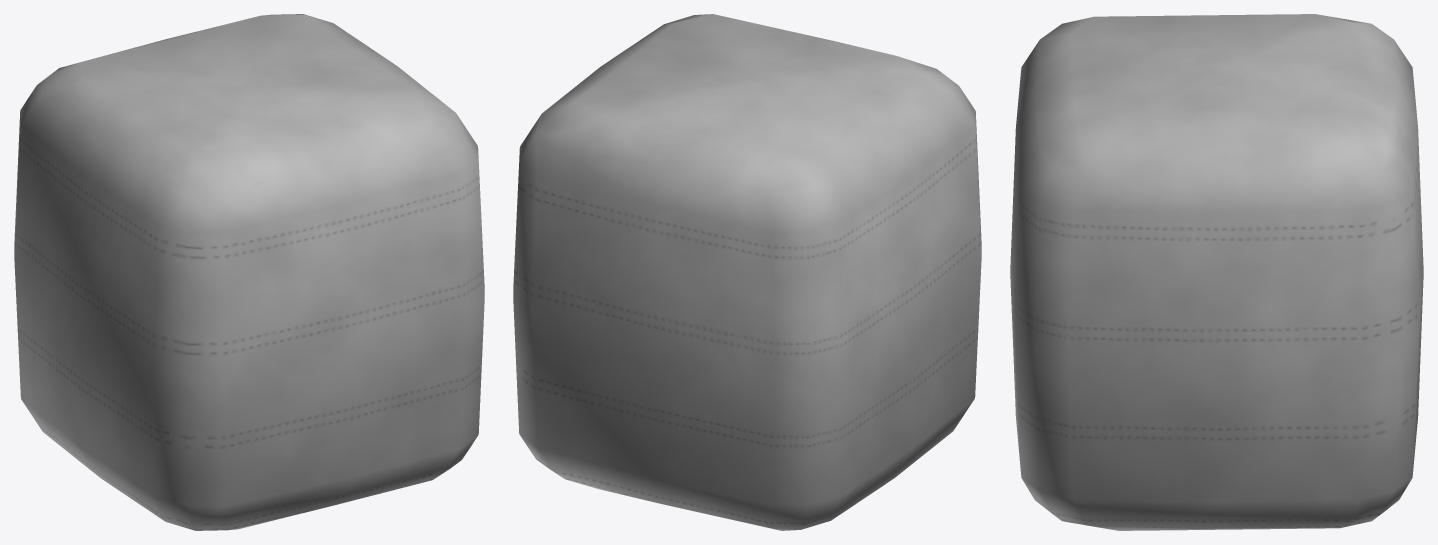
The model's file is RightUpperArm_C1.fbx.
The picture shows the model from 3 angles, left to right: view 1: azimuth 30°, elevation 25°; view 2: azimuth 150°, elevation 25°; view 3: azimuth 270°, elevation 25°; orthographic projection. The views are drawn at different scales.
Visible parts, largest first — view 1: Civ_CamperaJean_RightUpperArm_C1; view 2: Civ_CamperaJean_RightUpperArm_C1; view 3: Civ_CamperaJean_RightUpperArm_C1.
Part boxes in pixels (<box>): Civ_CamperaJean_RightUpperArm_C1: <box>14,14,484,530</box>; Civ_CamperaJean_RightUpperArm_C1: <box>513,14,981,530</box>; Civ_CamperaJean_RightUpperArm_C1: <box>1010,14,1423,530</box>.
Bounding box in the file's own units: 1.22 × 1.31 × 1.22.
